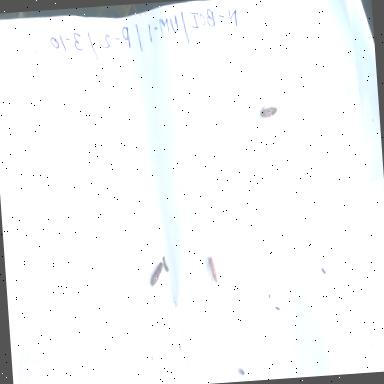pbw: (255, 92, 283, 129), (144, 256, 168, 296), (204, 254, 219, 288)
